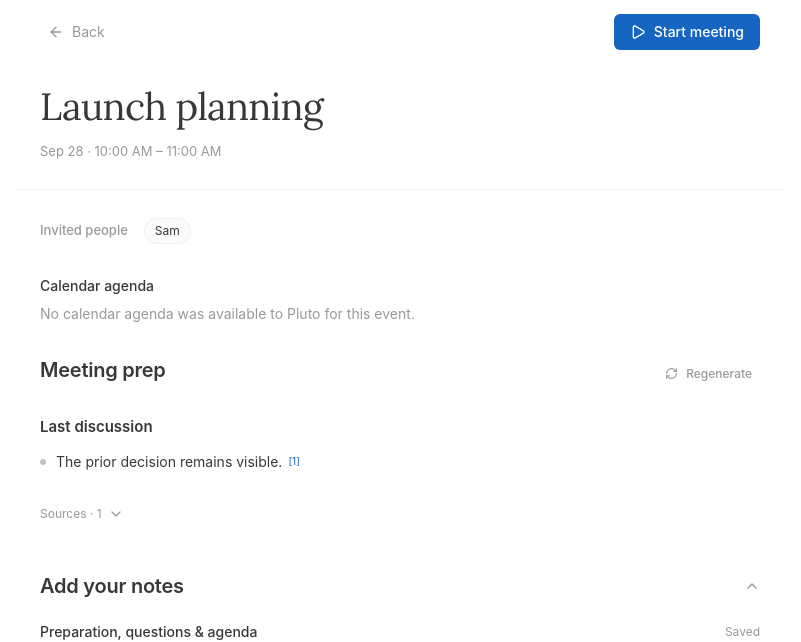
Test: keeps the last successful recap when regeneration falls back
Click the button "Regenerate" at (709, 374), box [657,356,760,392]
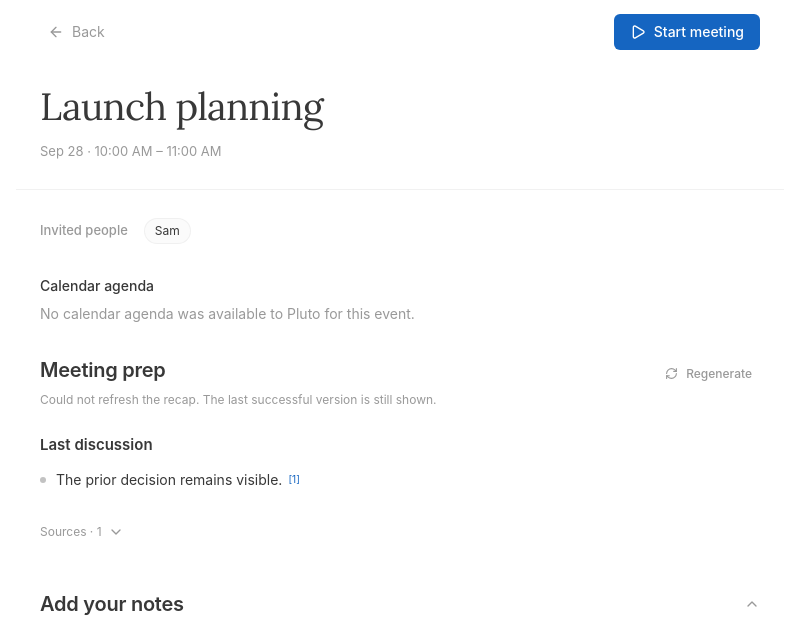
Expected: the text "The prior decision remains visible." is shown, [56,471,282,488]
Expected: the text "last successful version is still shown" is shown, [40,392,436,407]
